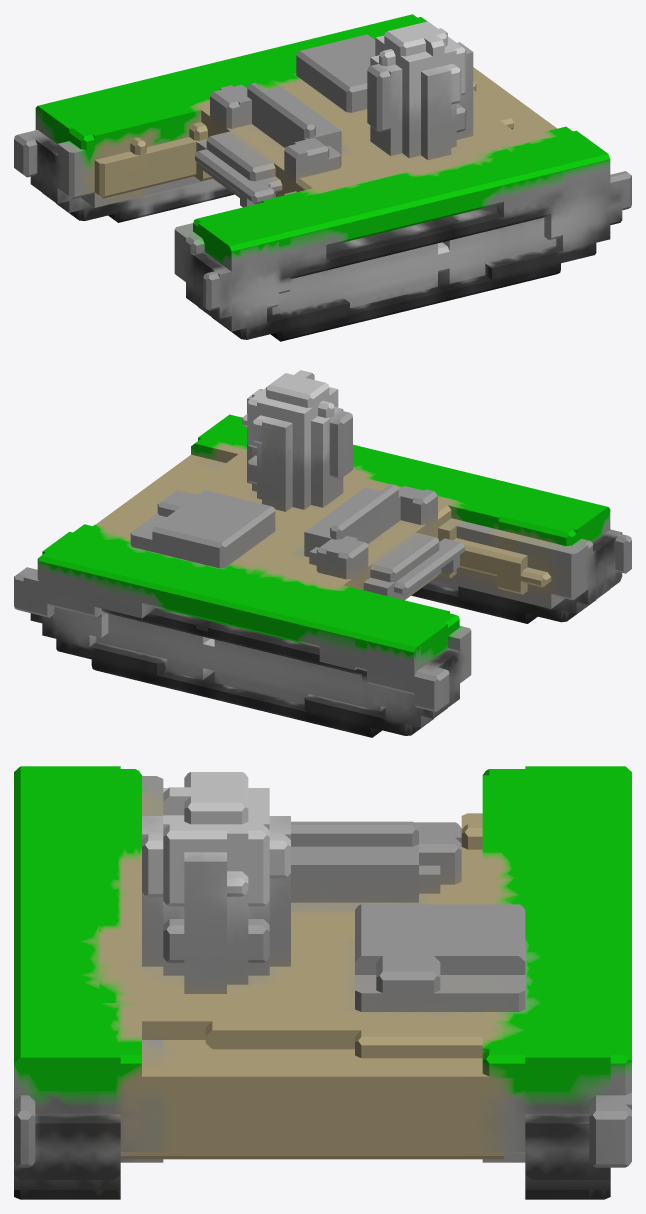
Rendered from mobile-emp-cannon.glb.
The picture shows the model from 3 angles, top to bottom: view 1: azimuth 30°, elevation 25°; view 2: azimuth 150°, elevation 25°; view 3: azimuth 270°, elevation 25°; orthographic projection. The views are drawn at different scales.
Visible parts, largest first — view 1: hull_dummy01; view 2: hull_dummy01; view 3: hull_dummy01.
Boxes of the visible parts, <box> form: hull_dummy01: <box>14,14,631,341</box>; hull_dummy01: <box>14,370,631,737</box>; hull_dummy01: <box>14,766,631,1199</box>.
Bounding box in the file's own units: 1.16 × 0.5632 × 0.927.
